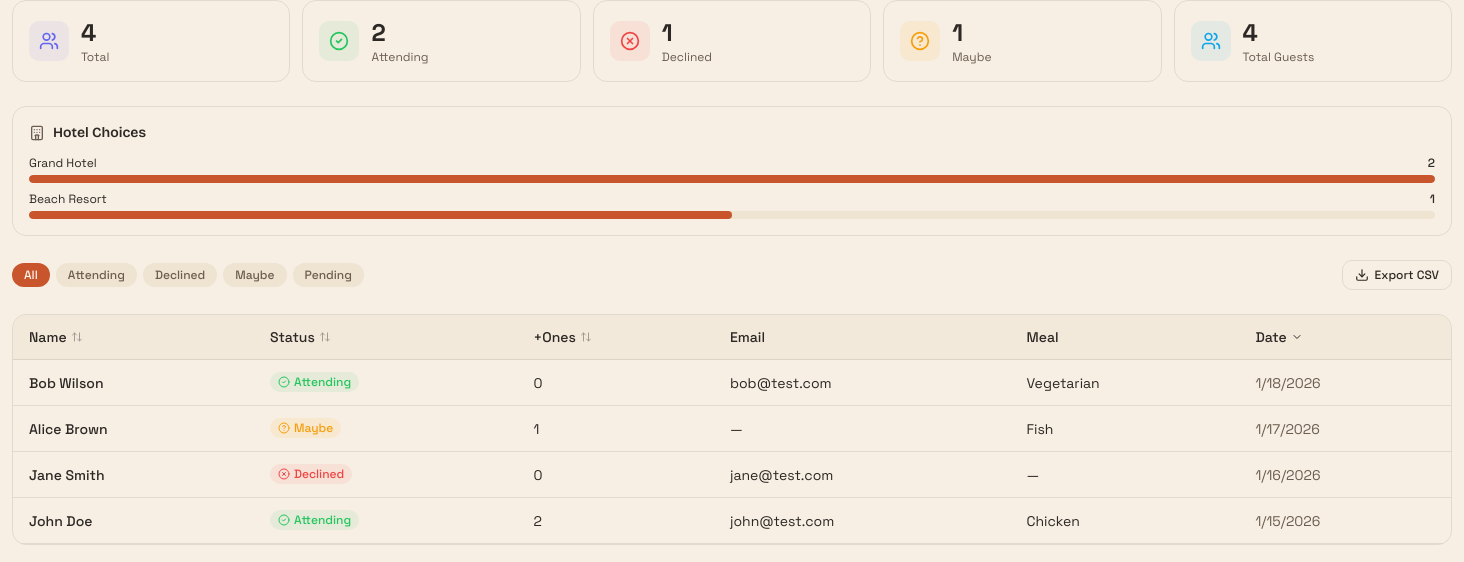
RSVPDashboard › filters RSVPs by status
The width and height of the screenshot is (1464, 562).
expect the element with test id "rsvp-table" is shown: met, box [12,314,1452,545]
Filter to "Attending" only
Step 1. Click the button with test id "filter-yes" → (96, 275), box [56,263,137,287]
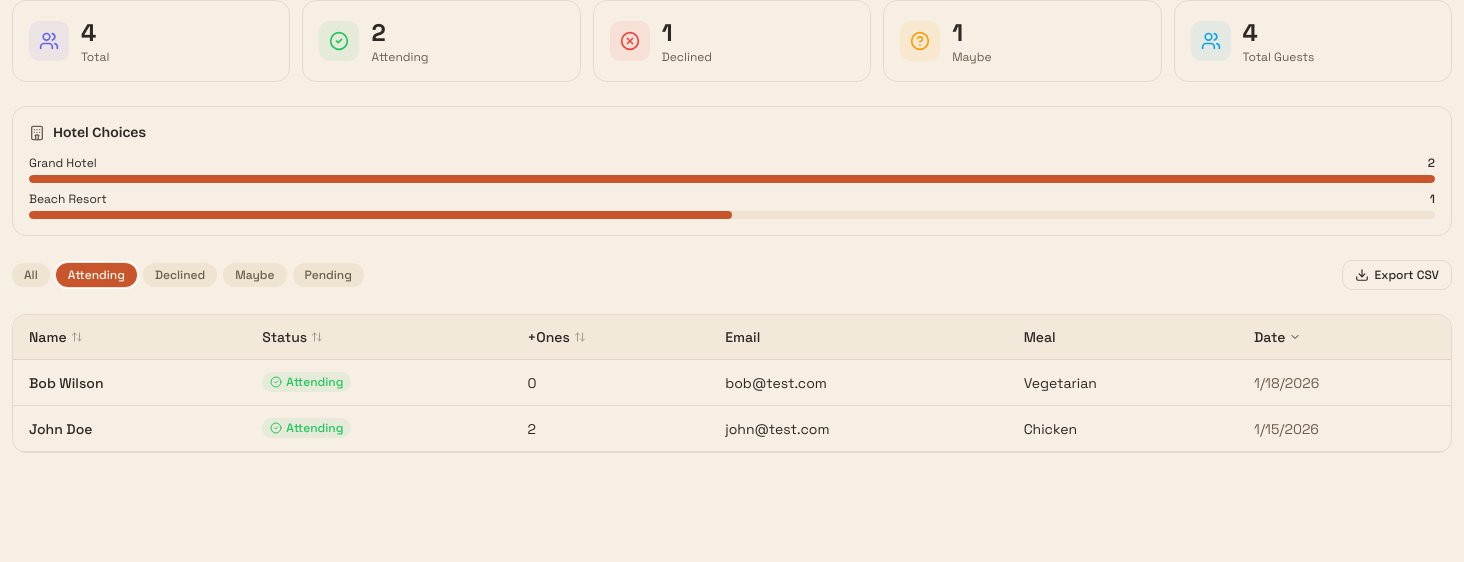
expect the row with test id "rsvp-row-rsvp-1" is shown: met, box [13,406,1451,452]
expect the row with test id "rsvp-row-rsvp-2" is gone: met
expect the row with test id "rsvp-row-rsvp-3" is gone: met
